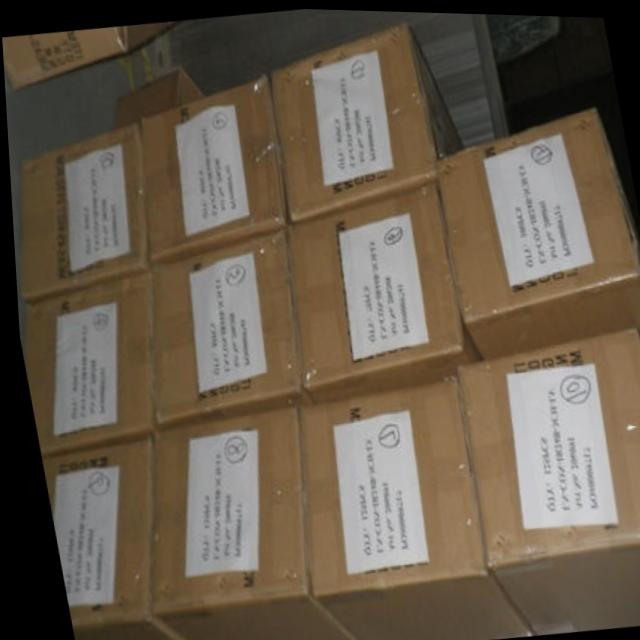box: (290, 369, 521, 640), (449, 325, 640, 630), (434, 107, 640, 357), (144, 407, 348, 640), (287, 174, 480, 401), (269, 18, 465, 220), (149, 226, 305, 424), (37, 435, 176, 640), (139, 79, 283, 262), (17, 264, 149, 457), (18, 123, 143, 303), (2, 25, 174, 90)
